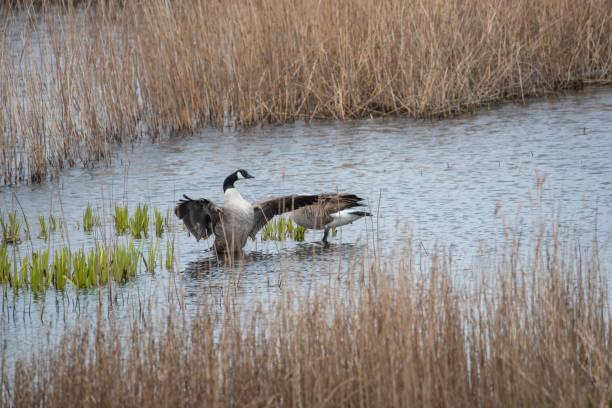Canadian-Goose: (178, 165, 321, 254), (295, 189, 369, 241)
